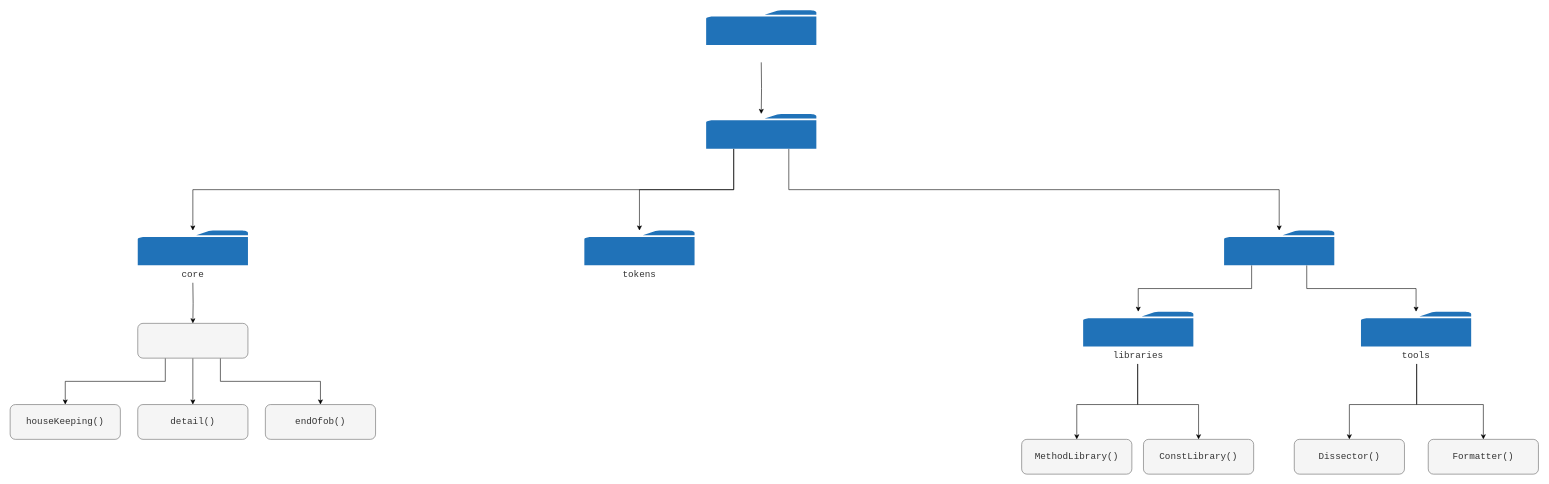
Some shapes in this 1549 by 484 pixel diagram are drawn without their labels. The centre of each missing label's shape, as x and y in pixels:
"classes" belongs at point 1279,247.
"Main()" belongs at point 192,340.
"PseudoCompiler" belongs at point 761,27.
"src" belongs at point 761,131.
